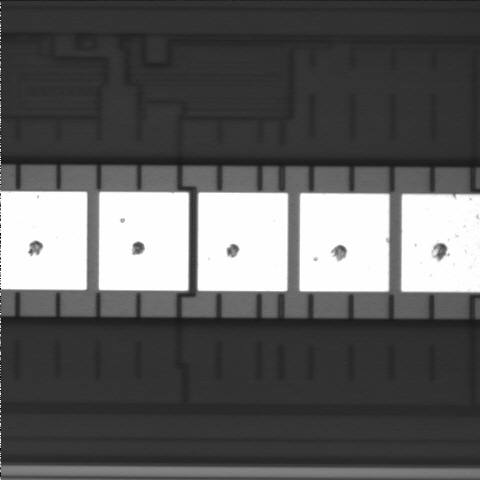pad: (99, 192, 189, 291), (299, 193, 389, 292), (198, 193, 288, 291)
